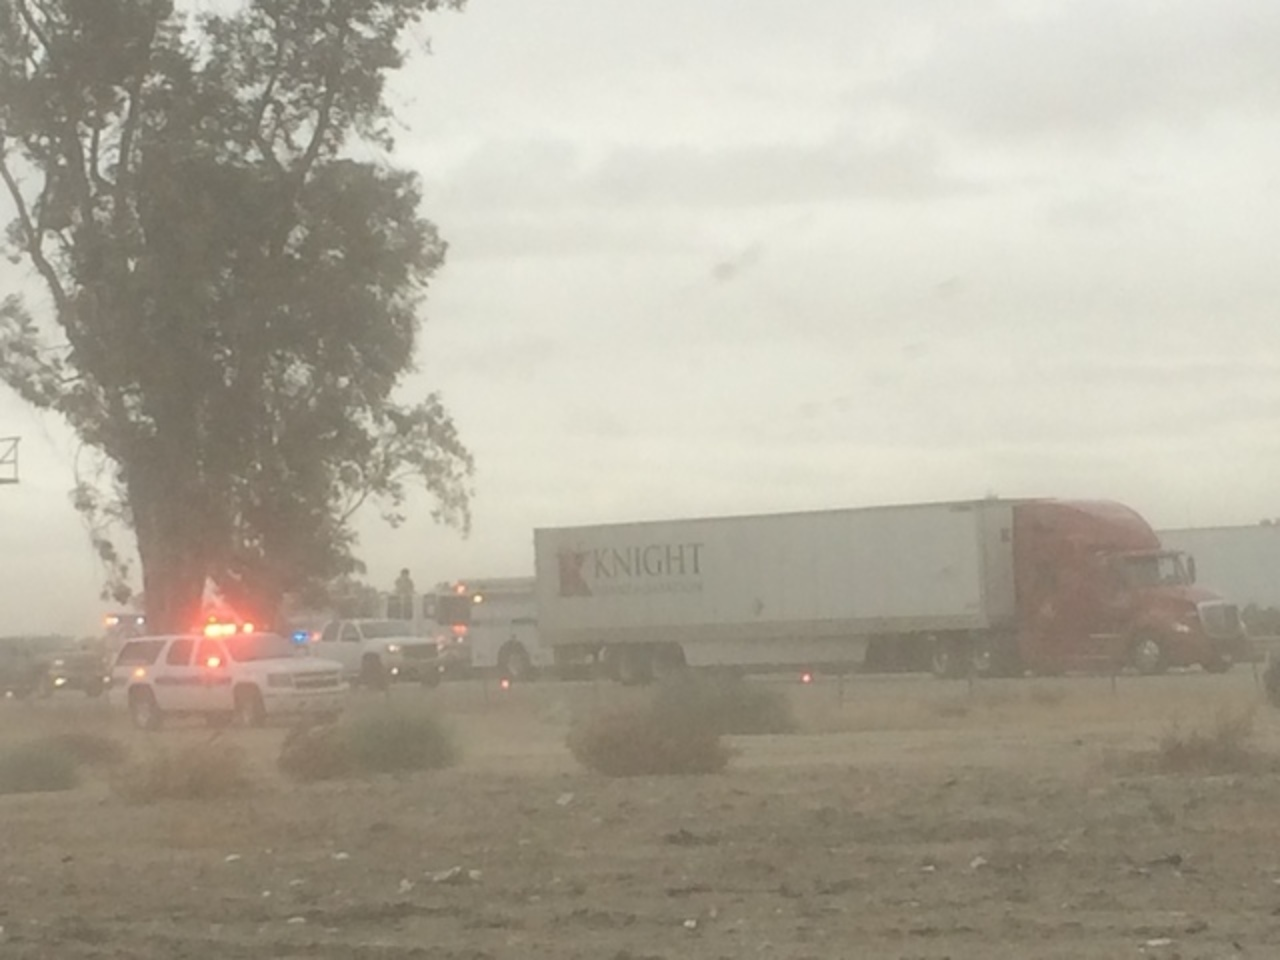car: (109, 632, 349, 733), (305, 621, 447, 693), (2, 635, 108, 700)
truck: (530, 502, 1255, 682), (438, 574, 552, 680)
